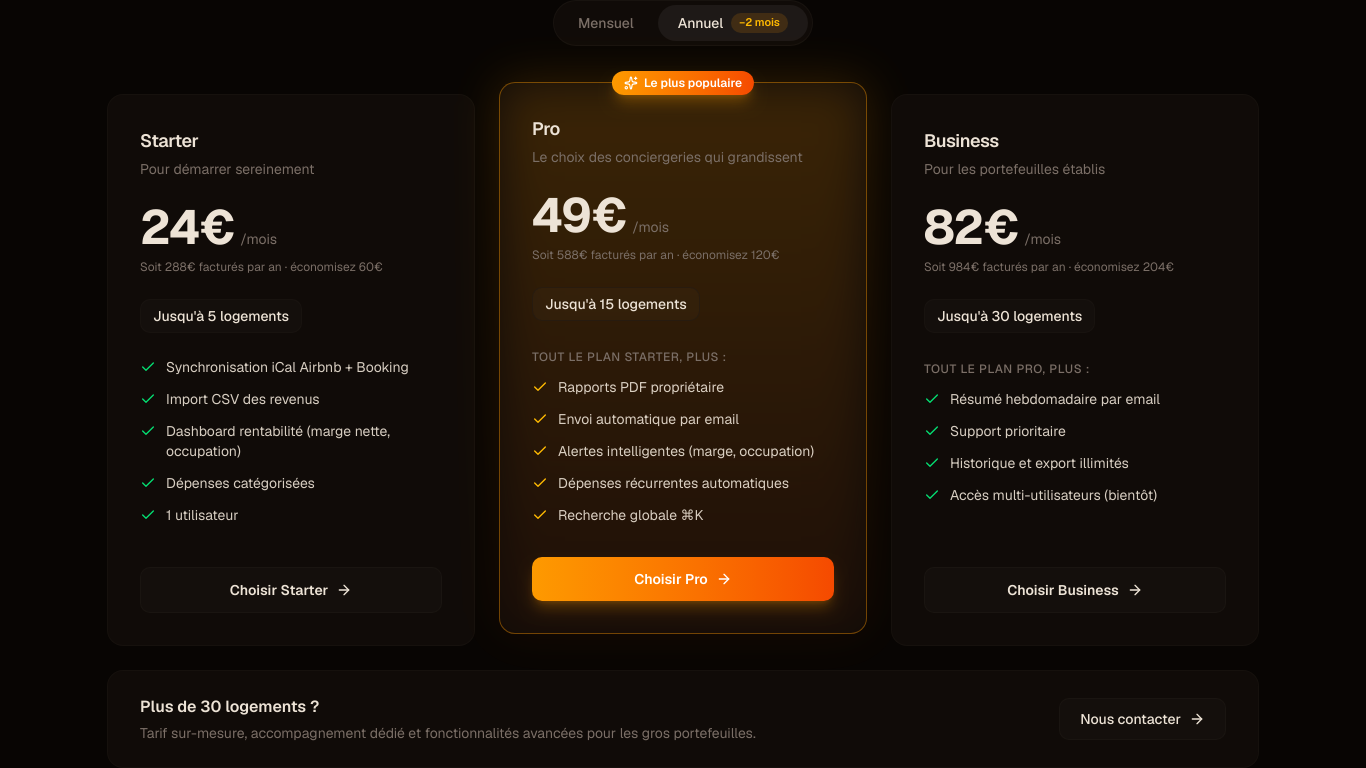
Scenario: PricingPlans › bascule vers les tarifs mensuels
The width and height of the screenshot is (1366, 768).
What coordinates should you click on to do the following:
click the button "Mensuel"
I would click on:
 (606, 23)
Its box is [558, 5, 654, 41].
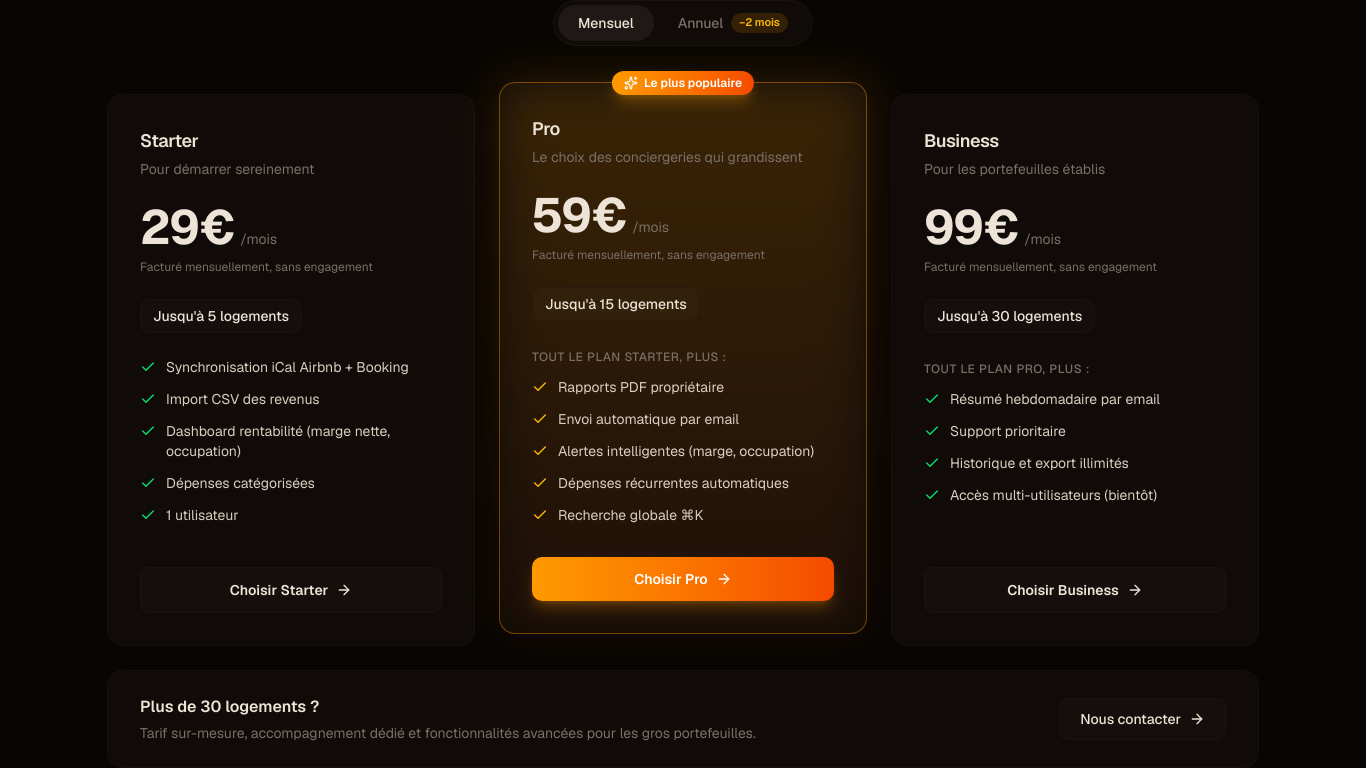
Expected: the text "29€" is shown, [140, 203, 234, 251]
Expected: the text "59€" is shown, [532, 191, 626, 239]
Expected: the text "99€" is shown, [924, 203, 1018, 251]
